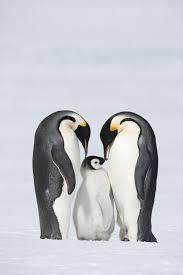emporer: (96, 101, 168, 249), (24, 107, 97, 242)
